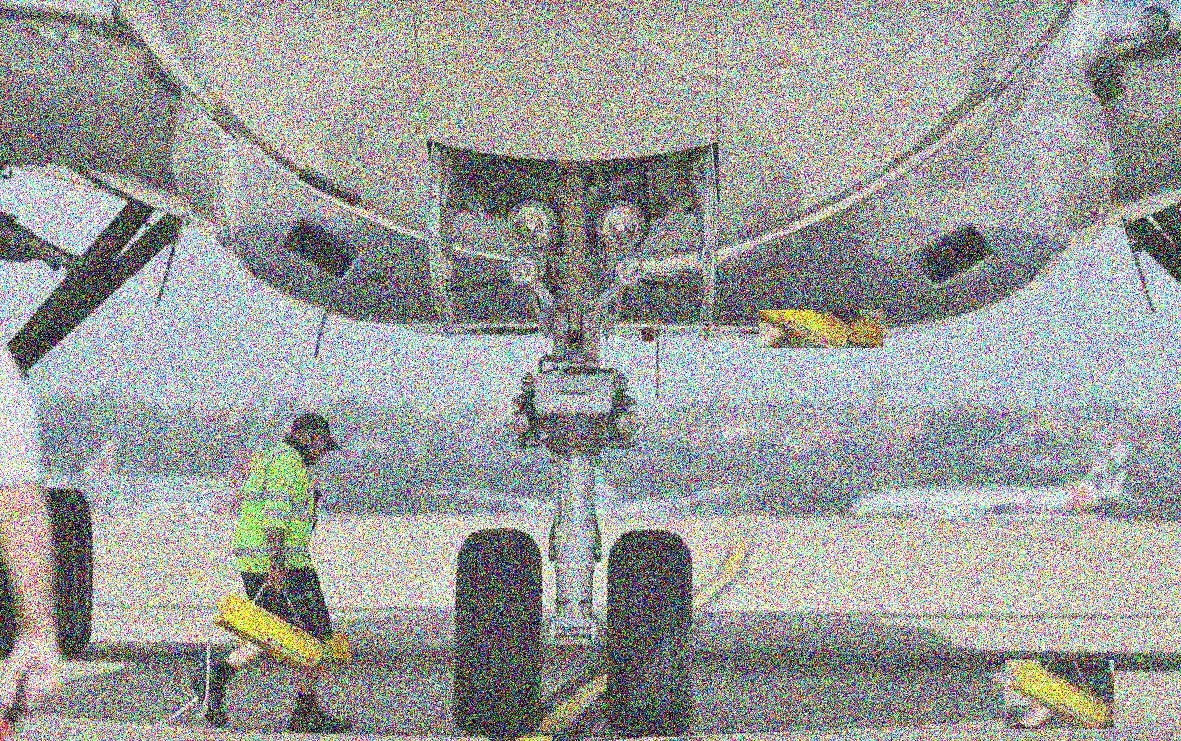chock: (209, 592, 329, 668), (1005, 660, 1114, 729), (759, 310, 883, 348), (239, 628, 353, 664)
wheel: (453, 528, 545, 735), (607, 529, 698, 735), (48, 489, 94, 653)
